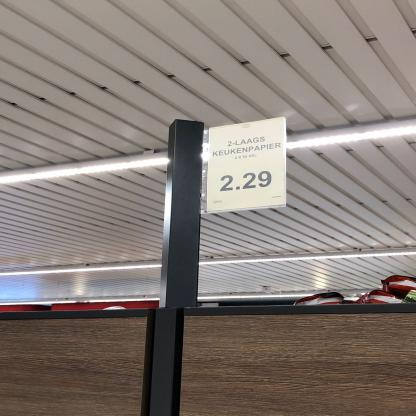prtg: (208, 117, 287, 213)
